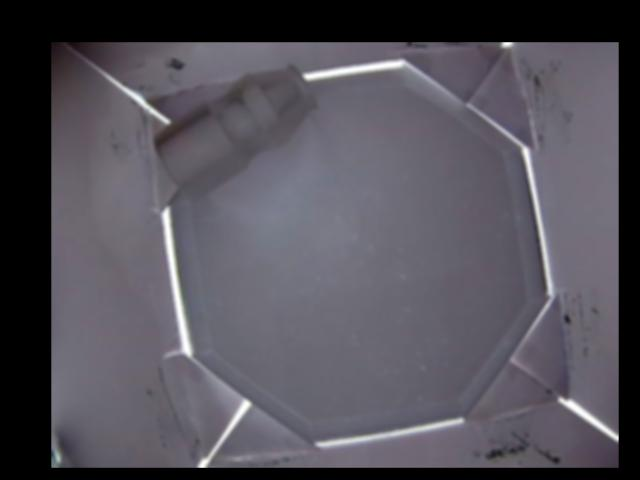Bottle: (153, 63, 319, 202)
